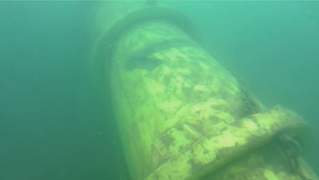1: (124, 38, 201, 71)
pipe: (88, 1, 317, 179)
